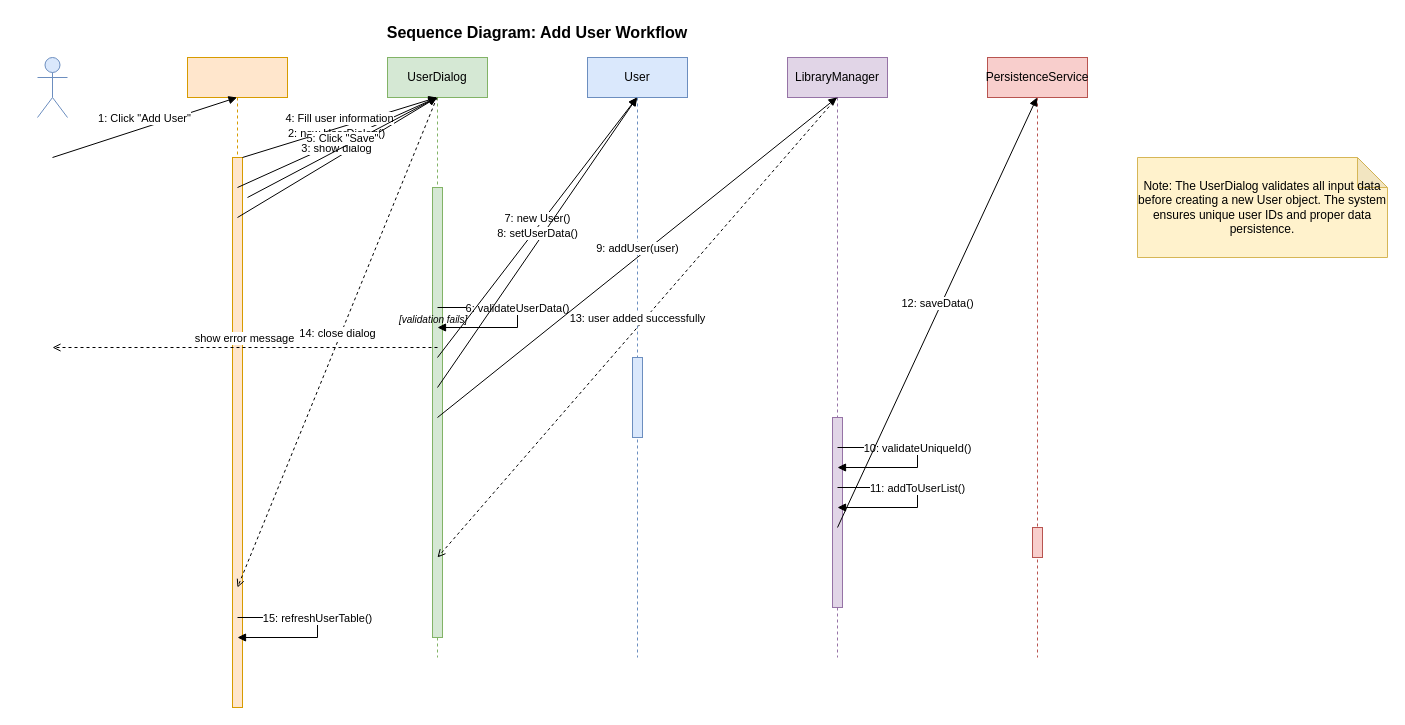
The diagram is 1405 pixels wide and 725 high, and some of its shapes have lost their labels. Here are the shapes that lost their labels. From the top down, the centre of each, then its label:
(x=52, y=87): Administrator
(x=237, y=357): MainWindow
